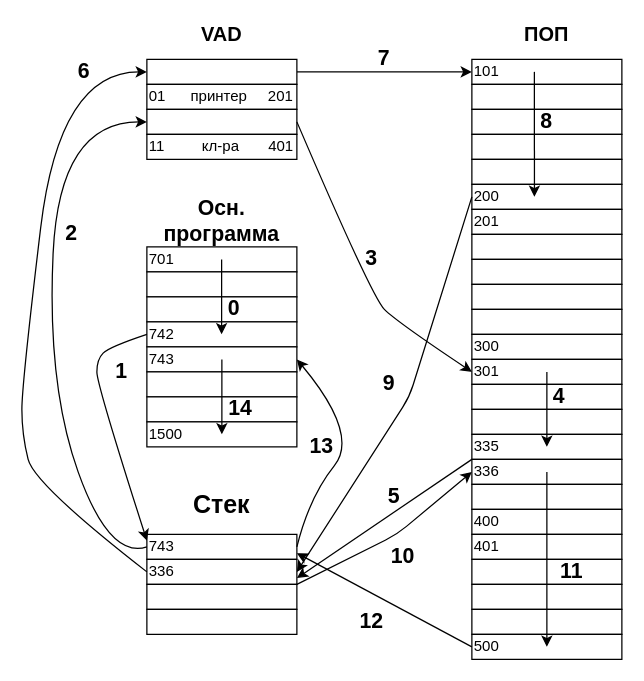
This 644x681 diagram has some shape labels left out. Each missing label, with the centre of its shape:
"00 диск 101" belongs at [221,71].
"10 мышь 301" belongs at [221,121].
